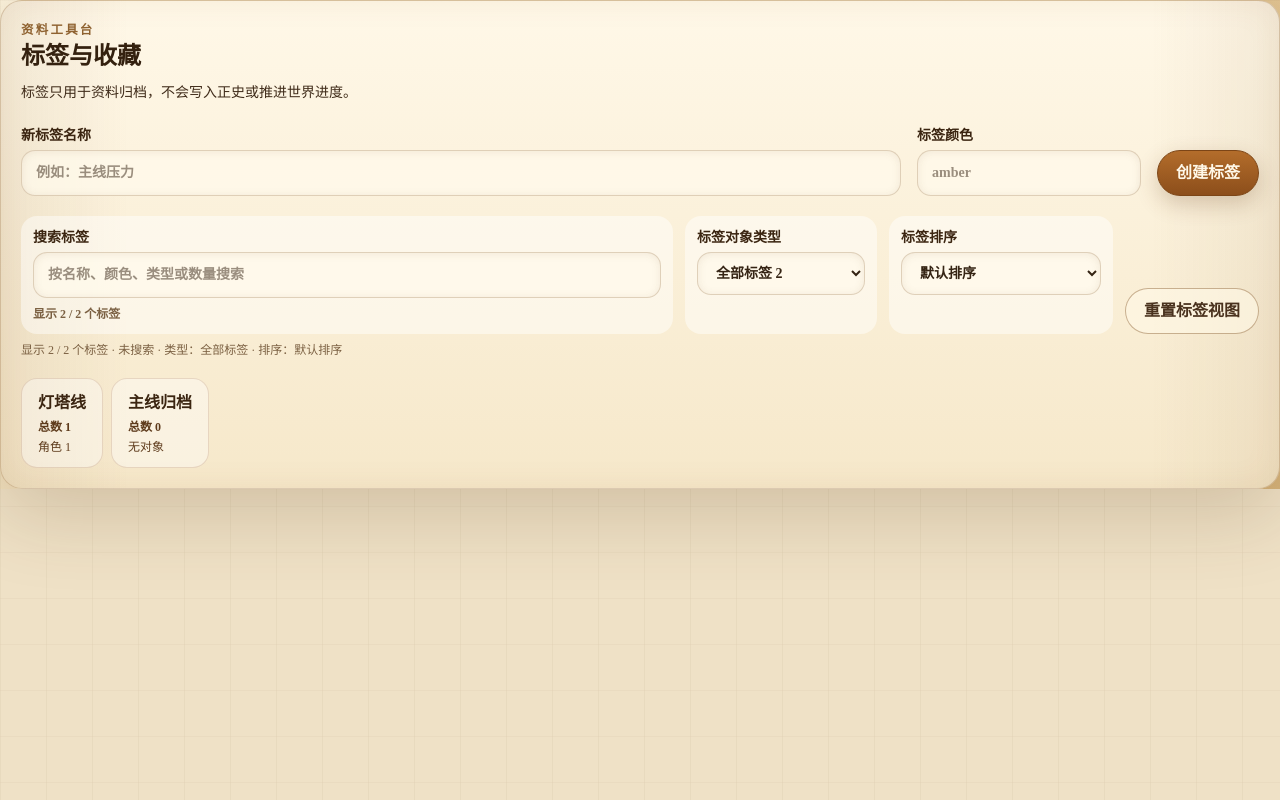
Test case: WorldTagsPanel › rejects invalid bulk object ID lists
Expected: the text "灯塔线" is shown, [38,391,86,415]
Click the button with aria-label "查看 灯塔线" at coordinates (62, 423), box [21,378,103,468]
(page scrolled)
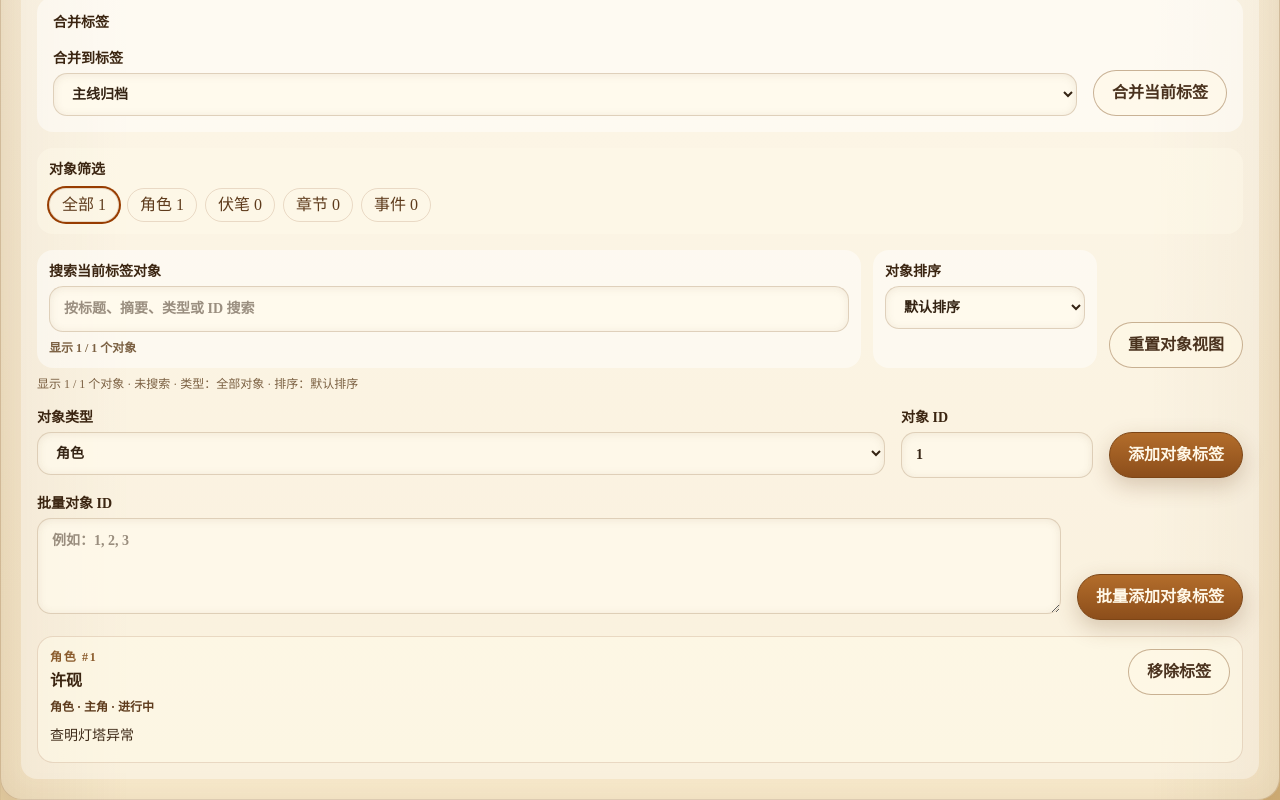
Expected: the text "批量对象 ID" is shown, [37,494,1061,620]
Type "1, abc" into the text box labelled "批量对象 ID" at coordinates (549, 566), box [37,518,1061,614]
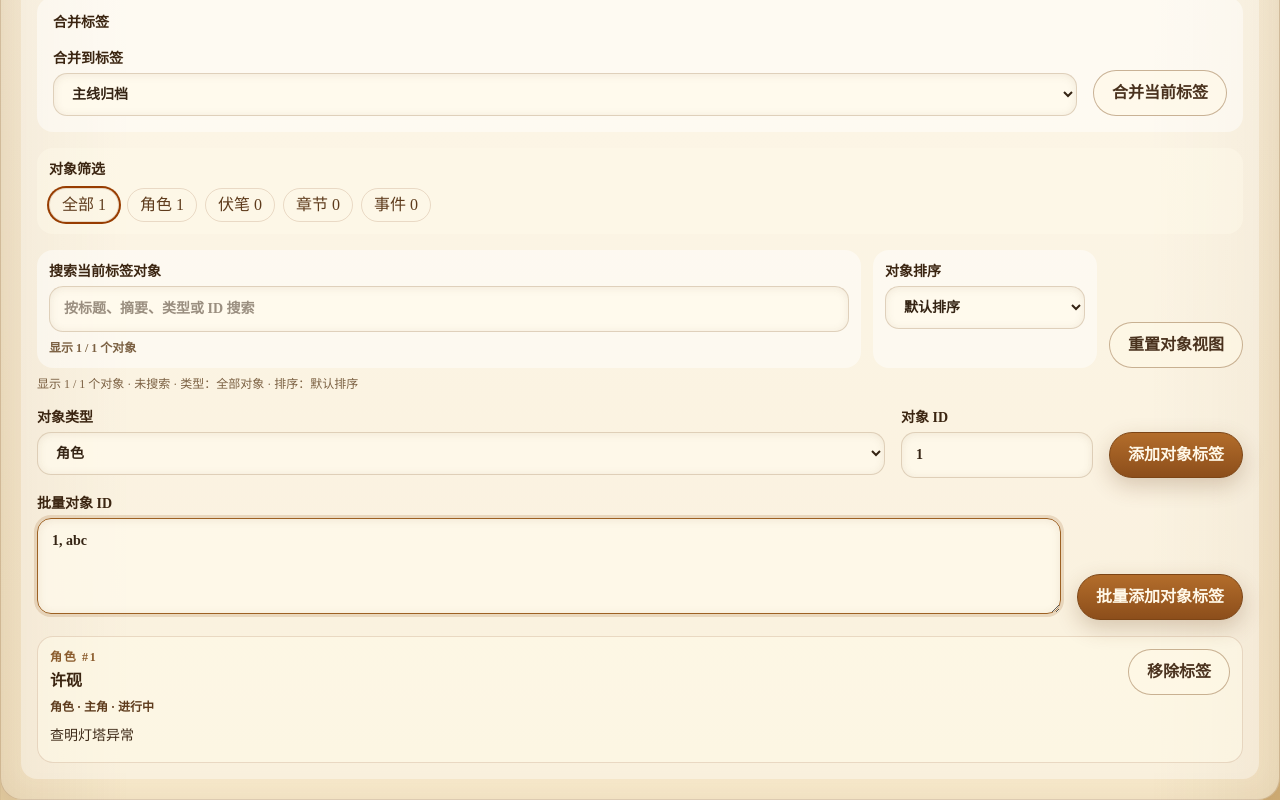
Click the button "批量添加对象标签" at coordinates (1160, 597), box [1077,574,1243,620]
(page scrolled)
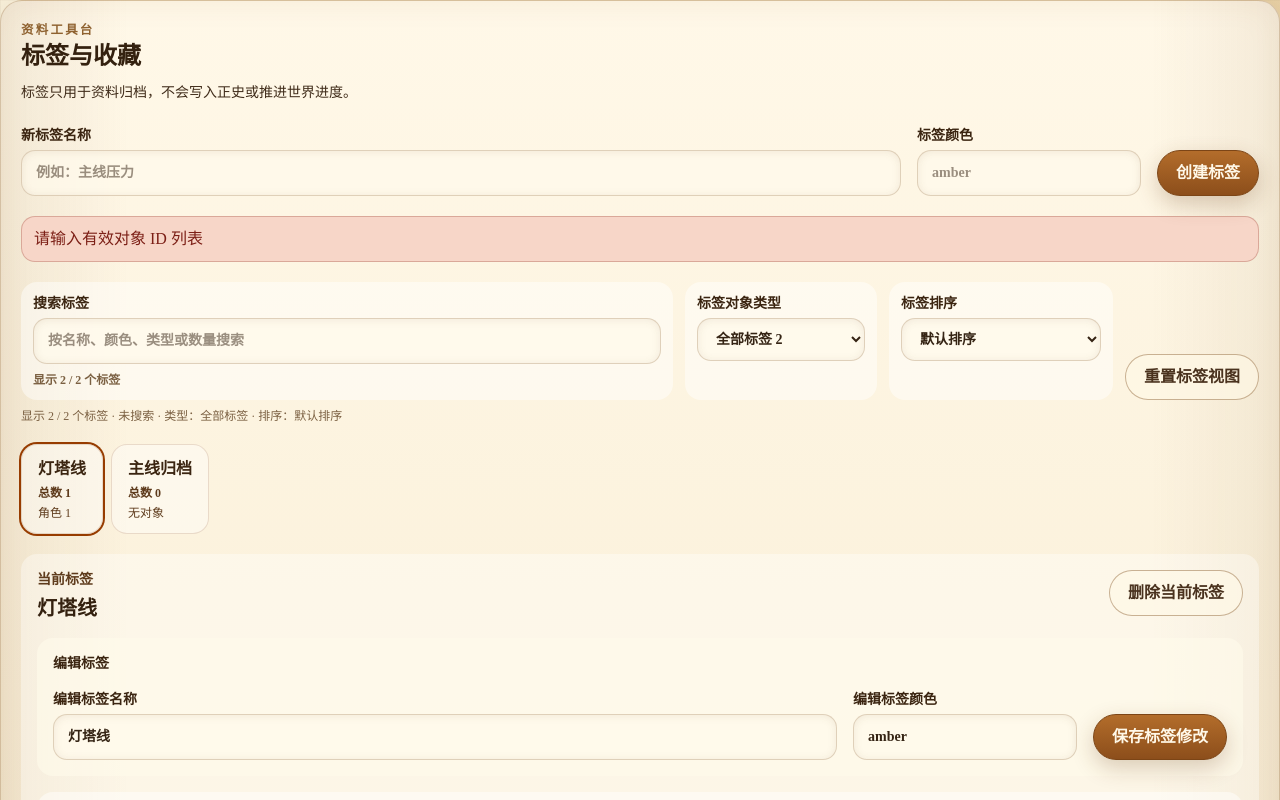
Expected: the message reads "请输入有效对象 ID 列表", [34,230,203,247]
